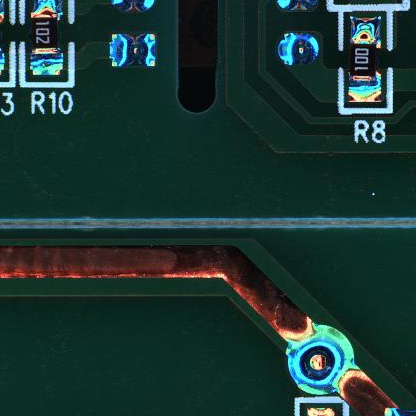spot: (288, 324, 355, 395), (109, 31, 158, 70), (277, 31, 320, 66)
